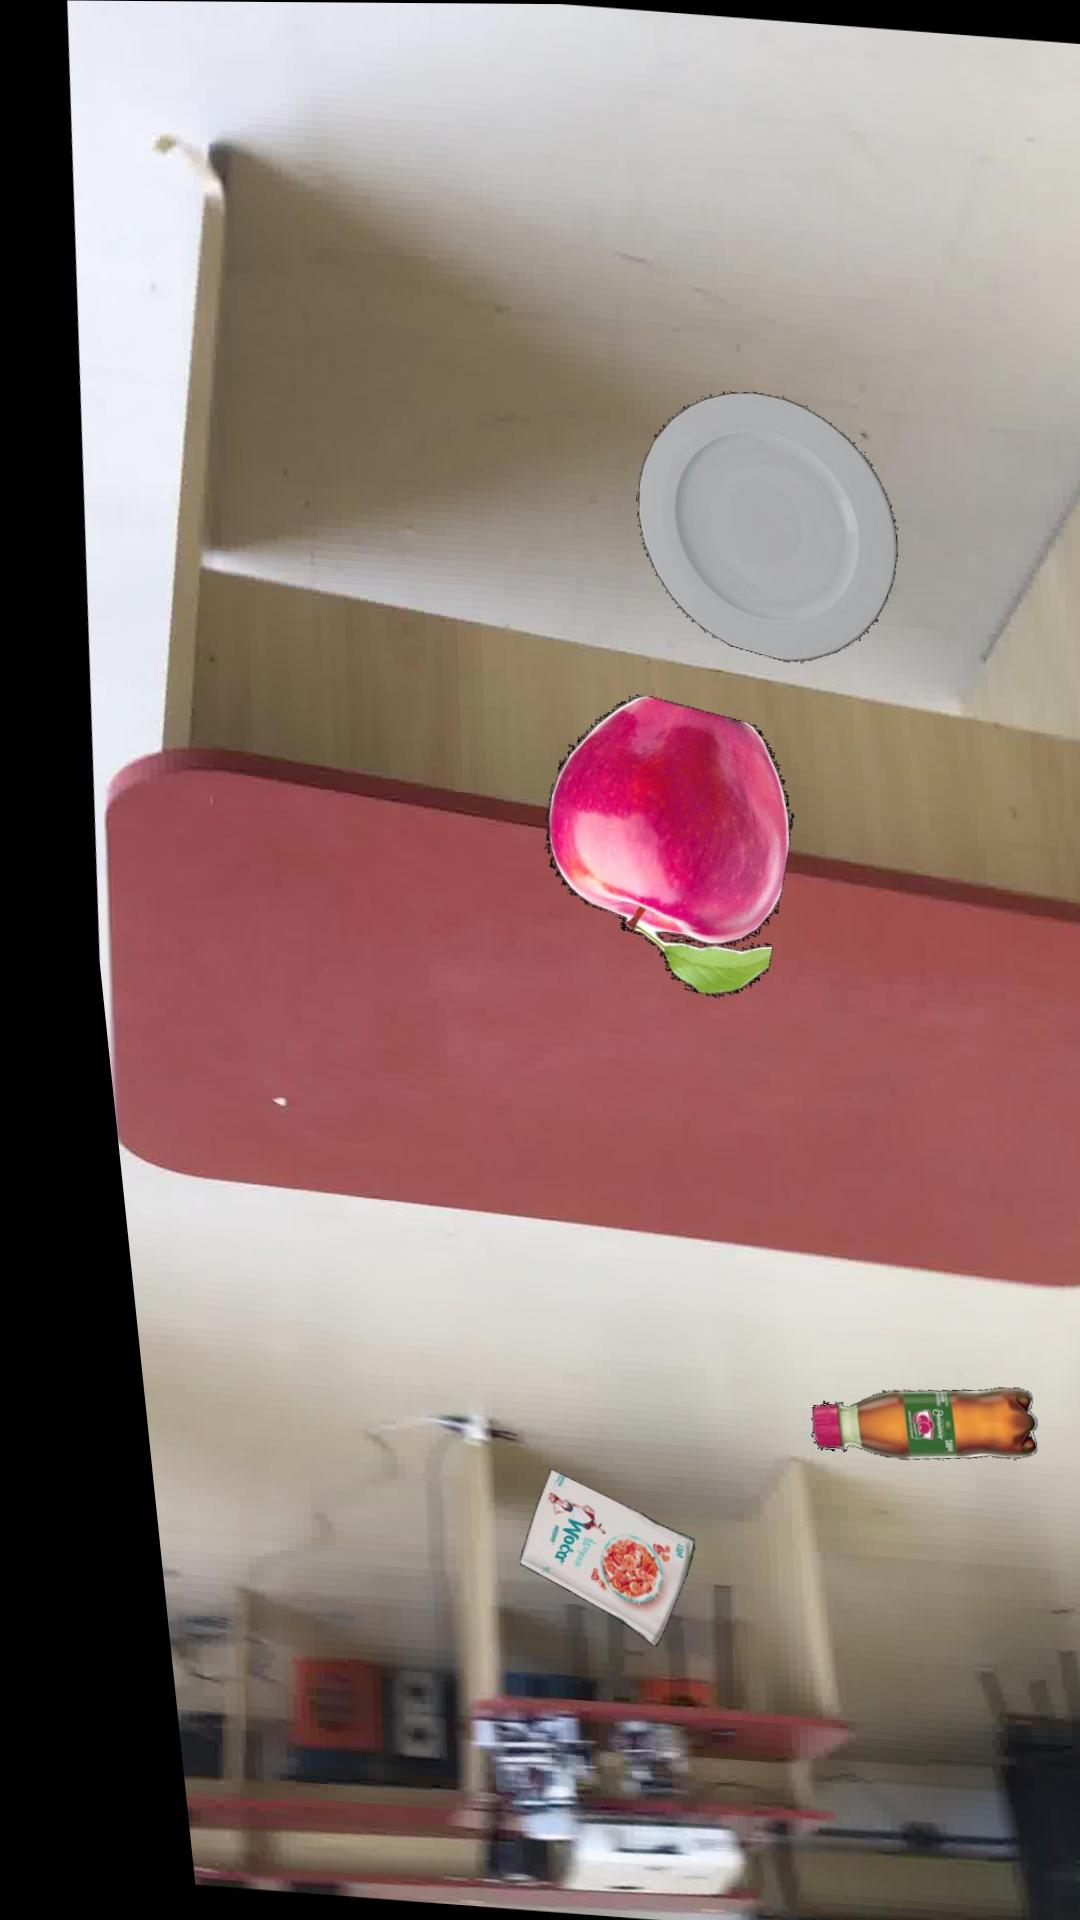apple: (525, 696, 771, 997)
corn flakes: (483, 1469, 658, 1646)
guarana: (778, 1386, 1004, 1458)
plate: (622, 390, 882, 662)
